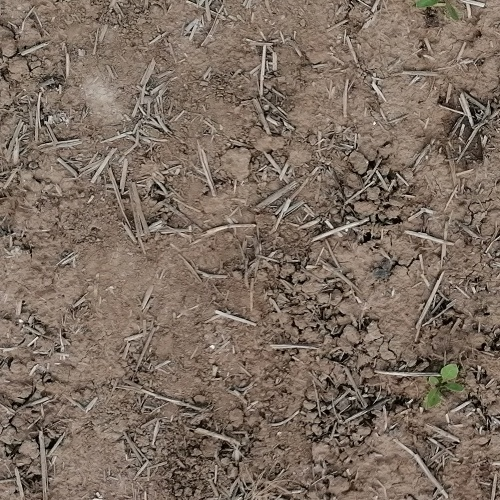beet: (428, 362, 462, 409)
